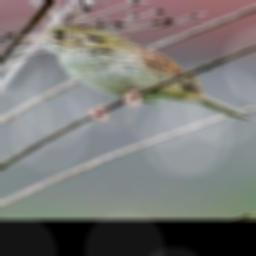Sparrow: (14, 22, 256, 123)
